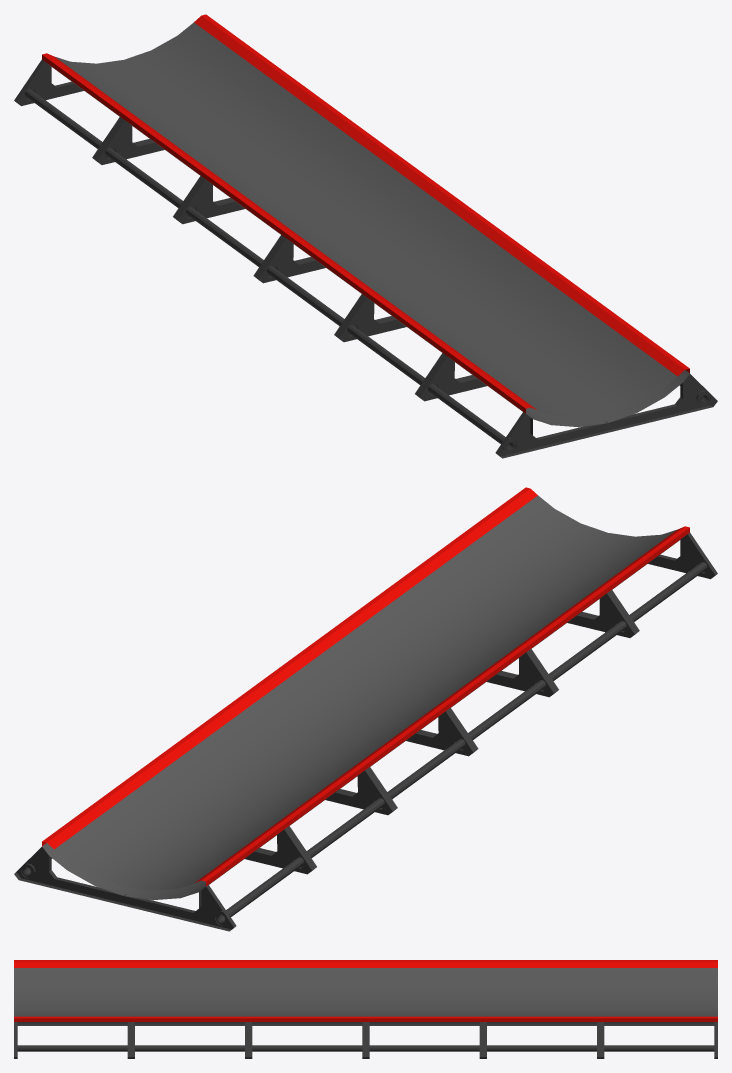
The model's file is RacetrackStraight.fbx.
The picture shows the model from 3 angles, top to bottom: view 1: azimuth 30°, elevation 25°; view 2: azimuth 150°, elevation 25°; view 3: azimuth 270°, elevation 25°; orthographic projection. The views are drawn at different scales.
Visible parts, largest first — view 1: Cube.001; view 2: Cube.001; view 3: Cube.001.
Boxes of the visible parts, box(x1,y1,x2,y2) form: Cube.001: box(14, 14, 717, 458); Cube.001: box(14, 487, 717, 931); Cube.001: box(14, 960, 717, 1058).
Bounding box in the file's own units: 1261 × 242 × 4800.
